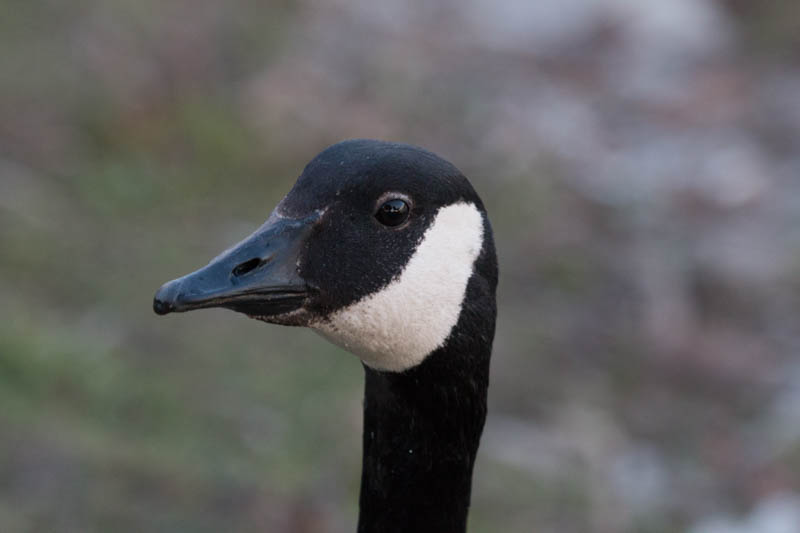goose-head: (151, 139, 499, 374)
